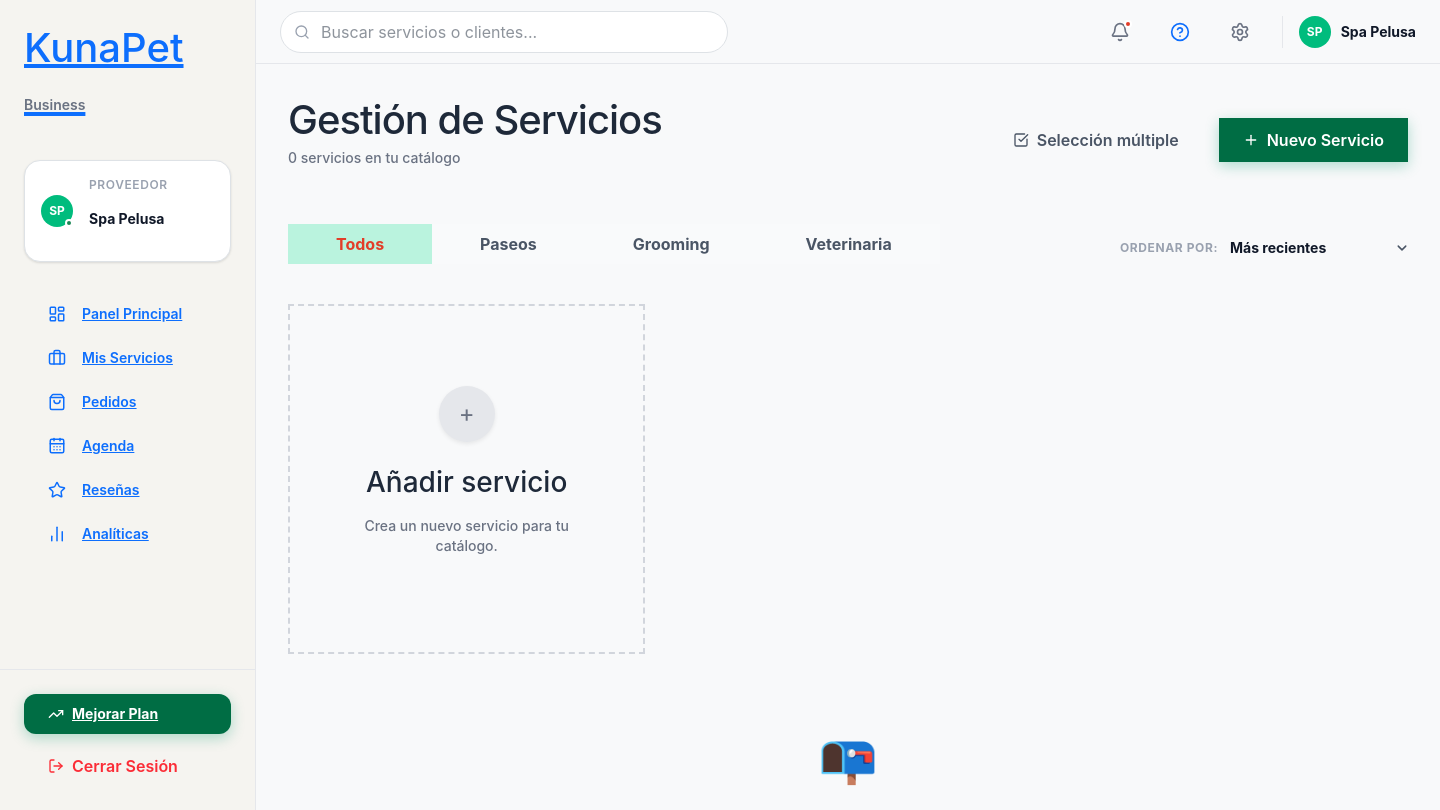
Test: Gestión de servicios del proveedor › un error de la API al crear se muestra dentro del modal
Click the button "Nuevo Servicio" at {"x": 1313, "y": 140}, box [1219,118,1408,162]
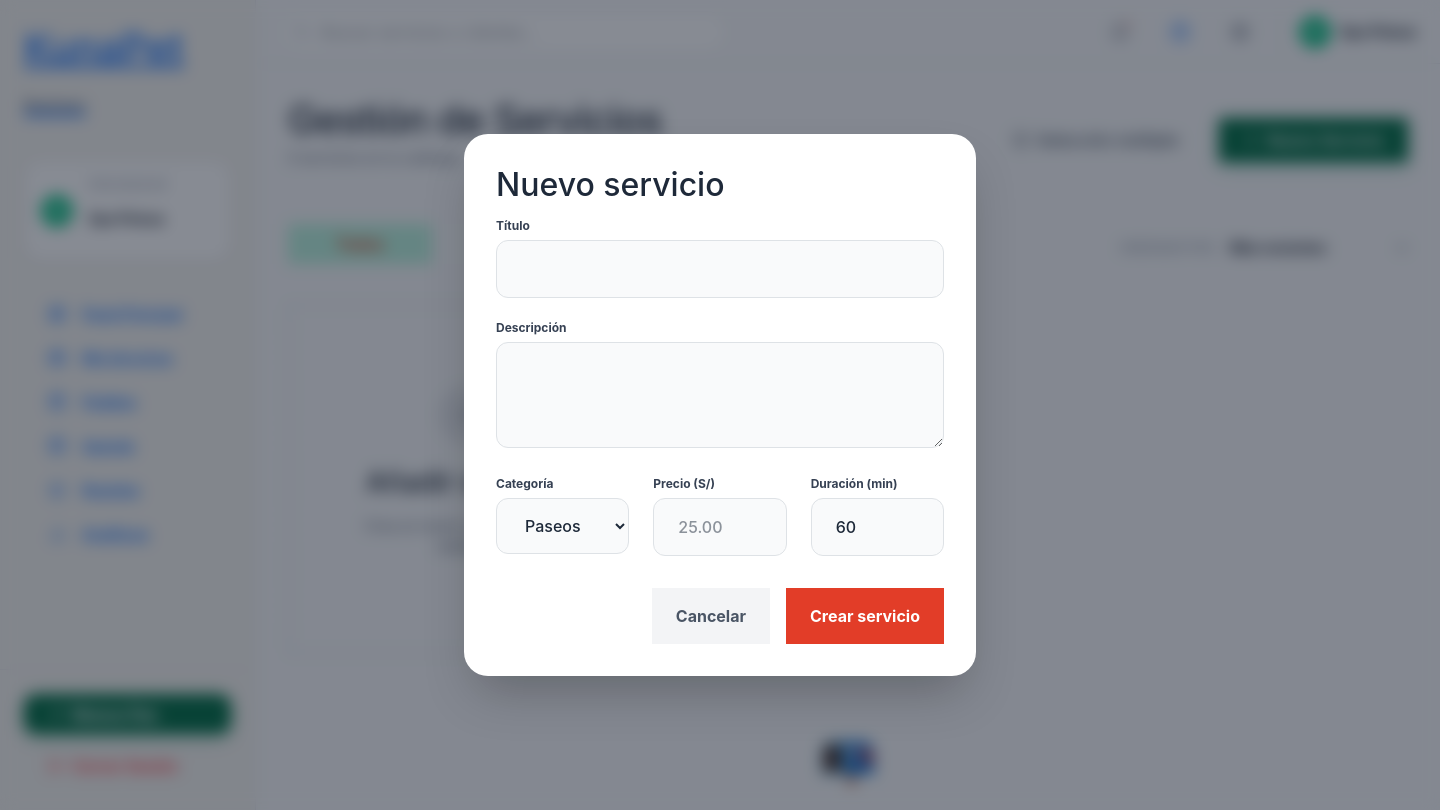
Type "Paseo" into the field labelled "Título" at {"x": 720, "y": 269}, box [496,240,944,298]
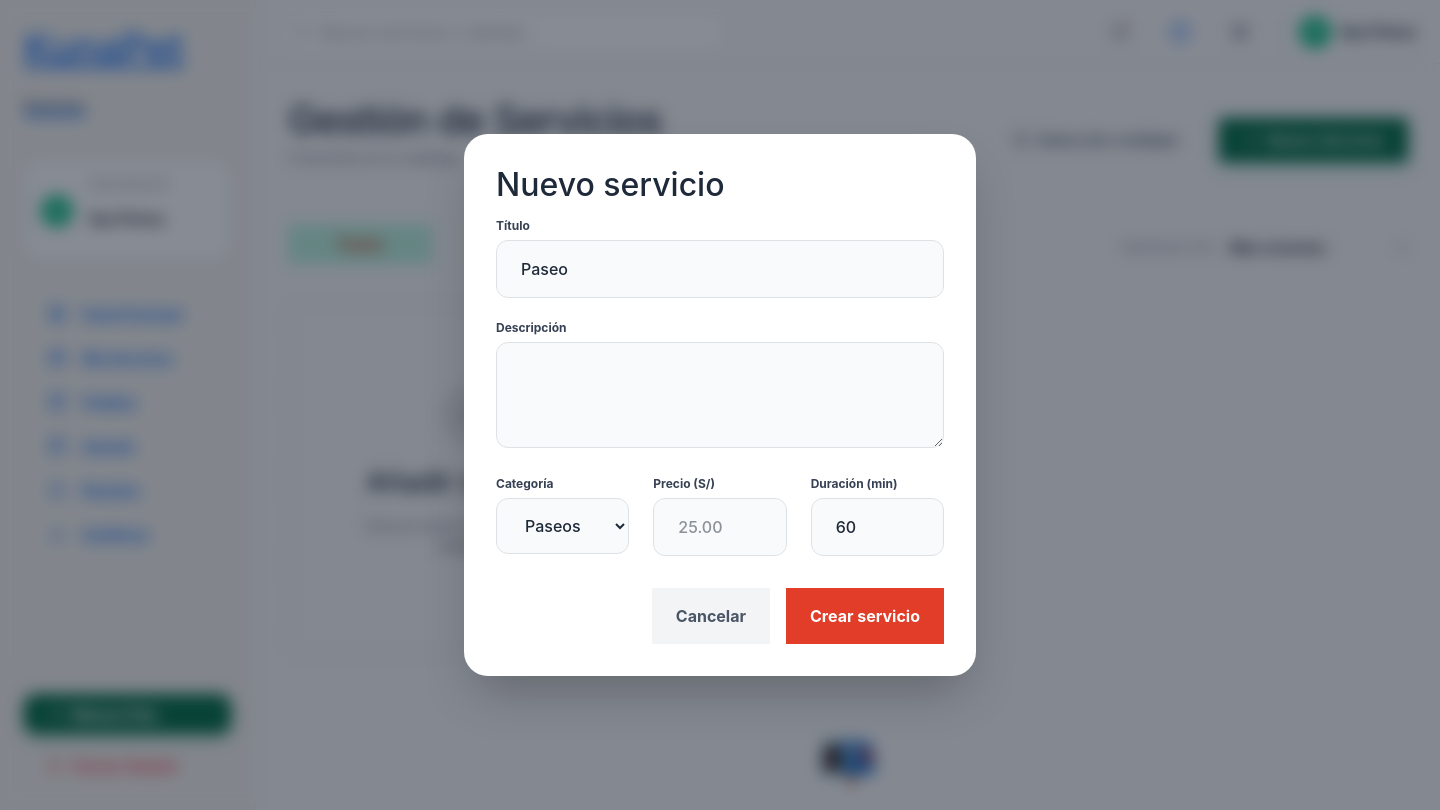
Type "d" into the text box labelled "Descripción" at {"x": 720, "y": 395}, box [496,342,944,448]
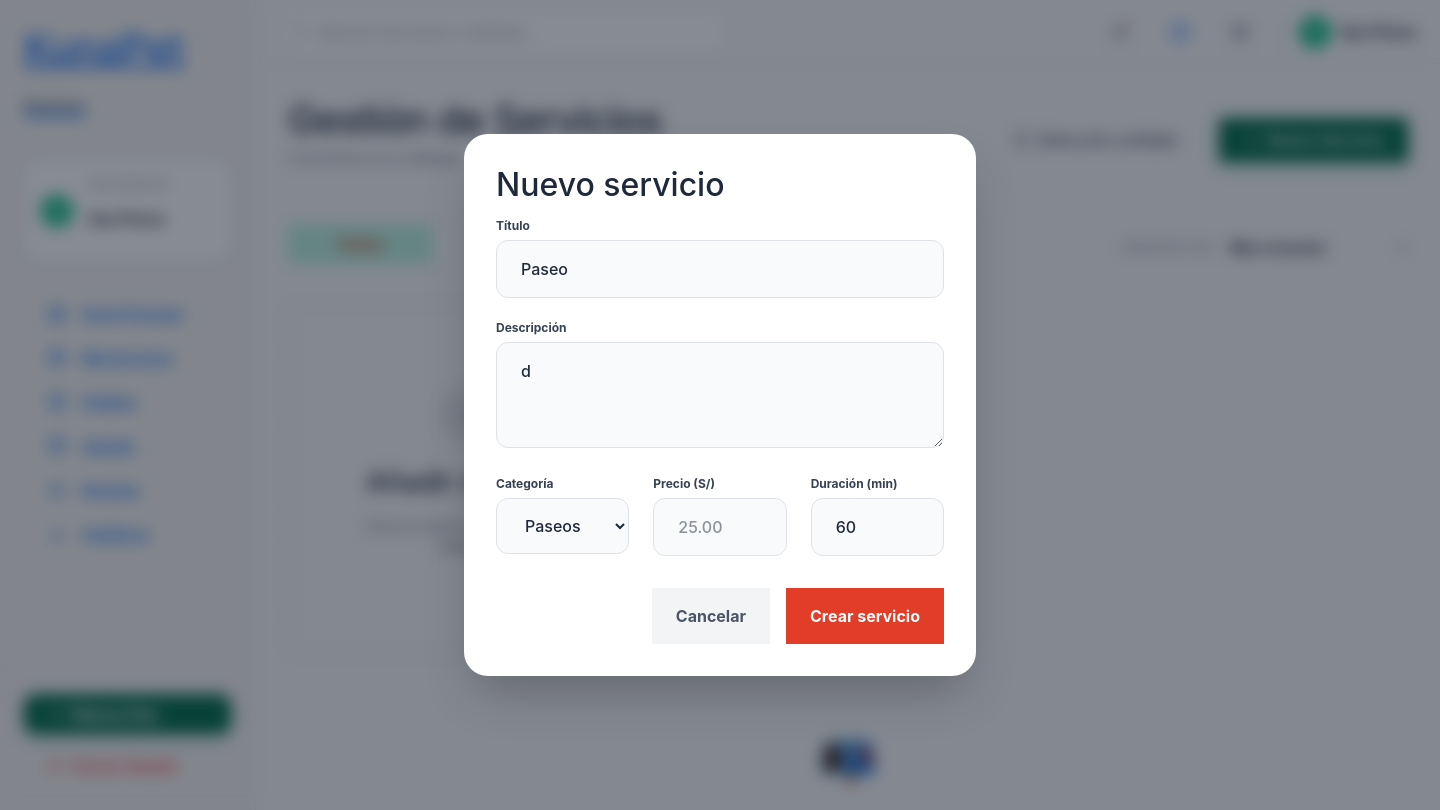
Type "10" into the field labelled "Precio (S/)" at {"x": 720, "y": 527}, box [653,498,787,556]
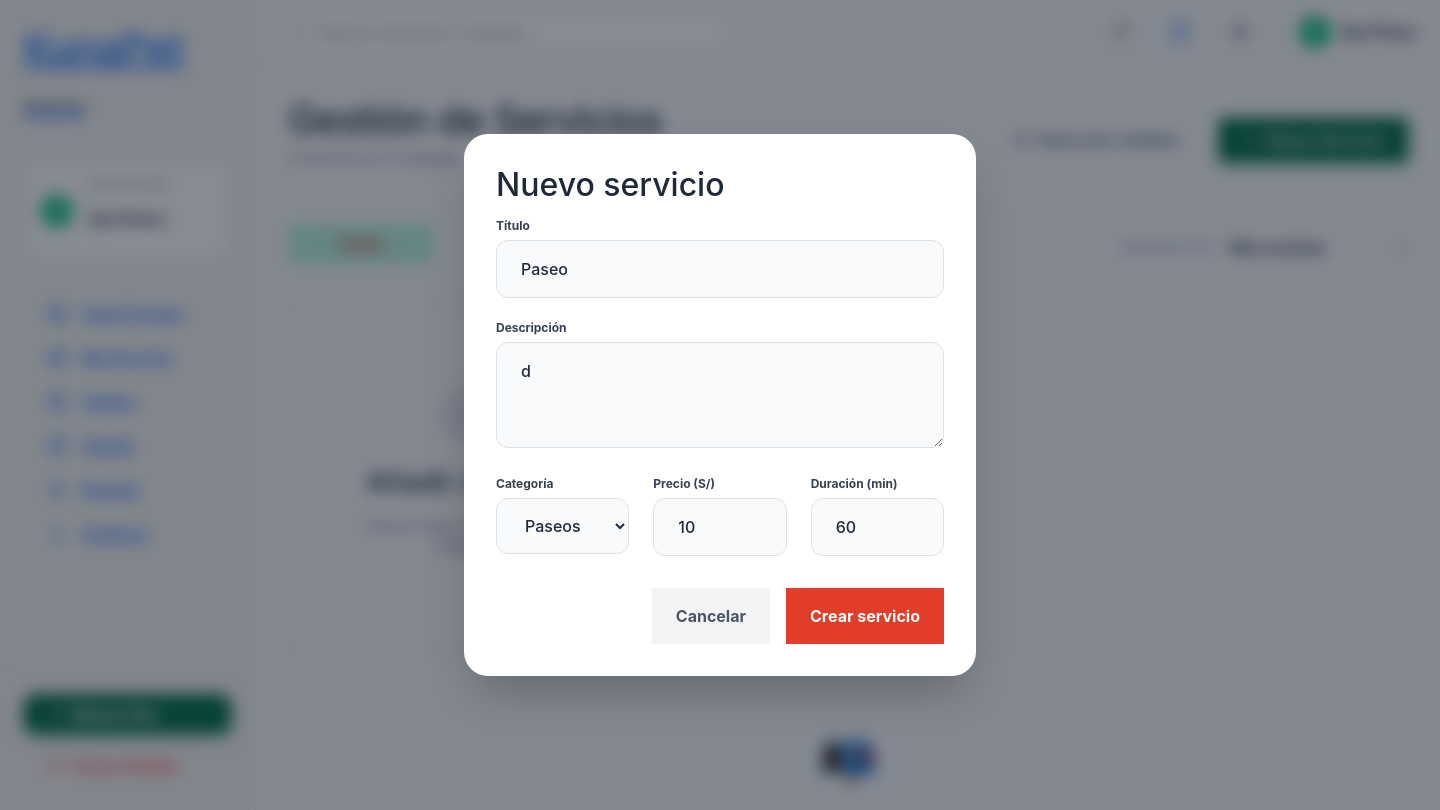
Click the button "Crear servicio" at {"x": 865, "y": 616}, box [786,588,944,644]
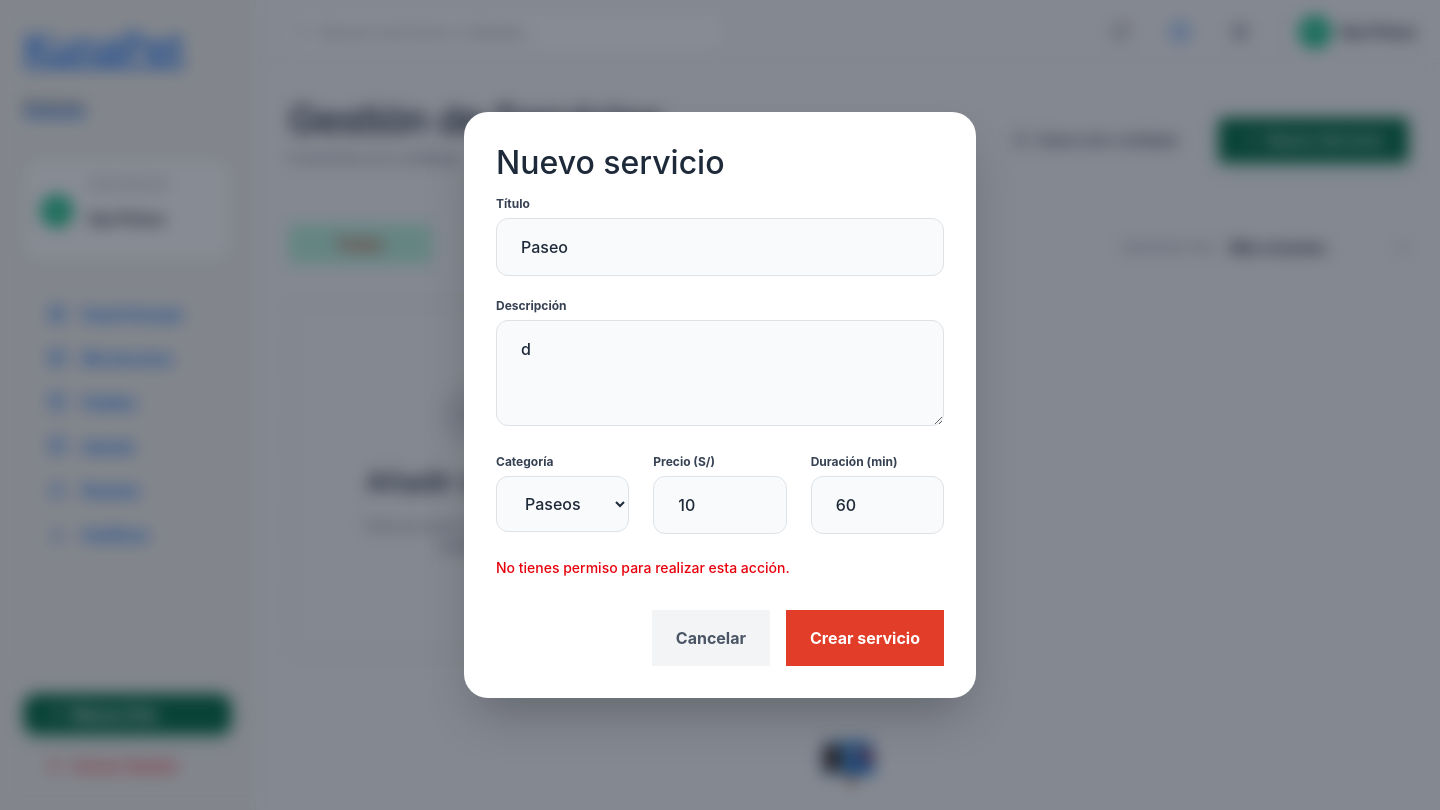
Check: the dialog is shown
Check: the text "No tienes permiso para realizar esta acción." is shown, box [496,559,790,576]
